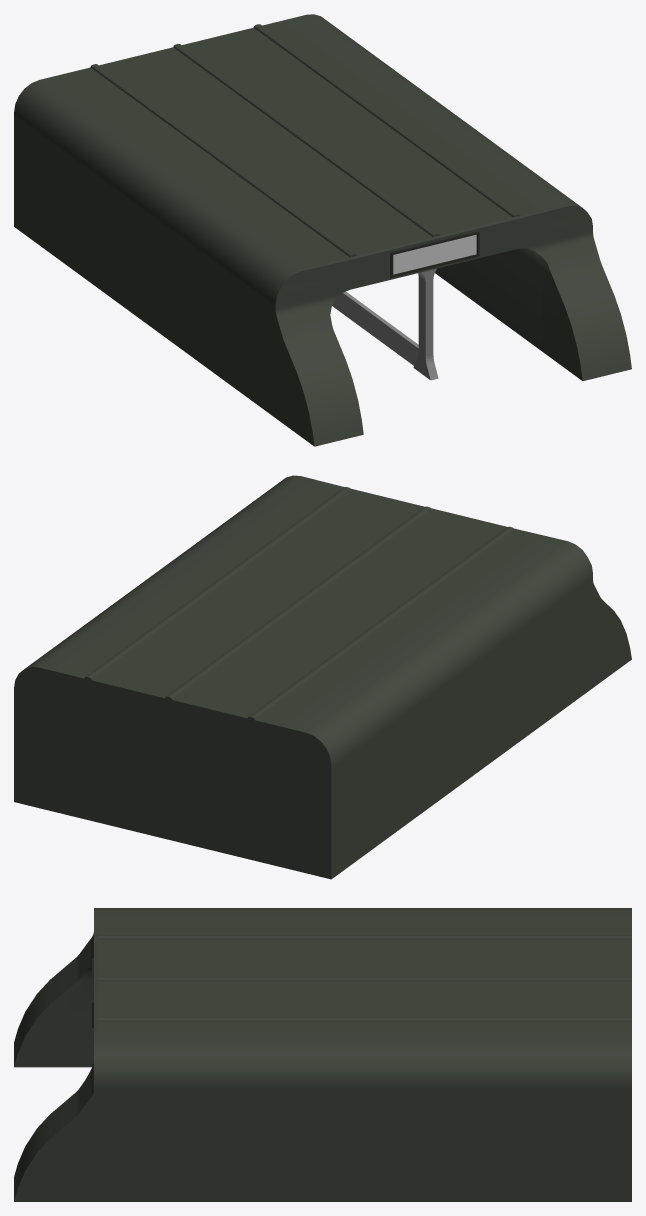
The model's file is Tunnel.fbx.
The picture shows the model from 3 angles, top to bottom: view 1: azimuth 30°, elevation 25°; view 2: azimuth 150°, elevation 25°; view 3: azimuth 270°, elevation 25°; orthographic projection. The views are drawn at different scales.
Parts seen in each view (by area): view 1: Cube.013; view 2: Cube.013; view 3: Cube.013.
Part boxes in pixels (<box>): Cube.013: <box>14,14,631,446</box>; Cube.013: <box>14,475,631,879</box>; Cube.013: <box>14,908,631,1201</box>.
Bounding box in the file's own units: 880 × 379 × 1444.
Materials: 1 (1 with a texture image).
